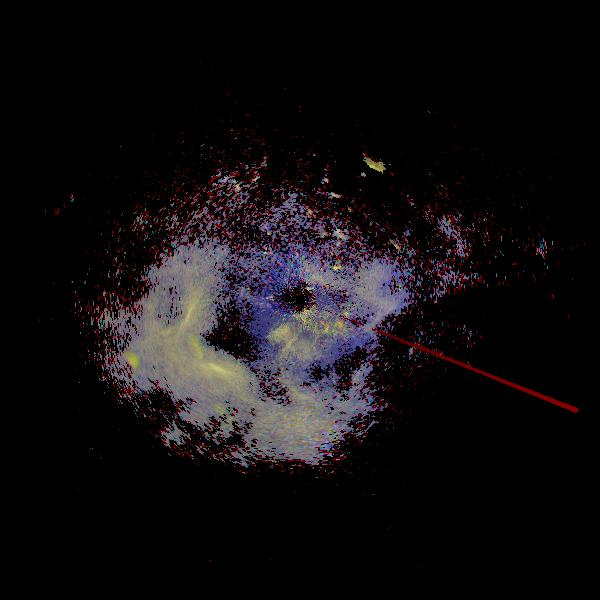roost: (362, 140, 398, 176), (170, 335, 203, 368), (125, 353, 143, 371)
